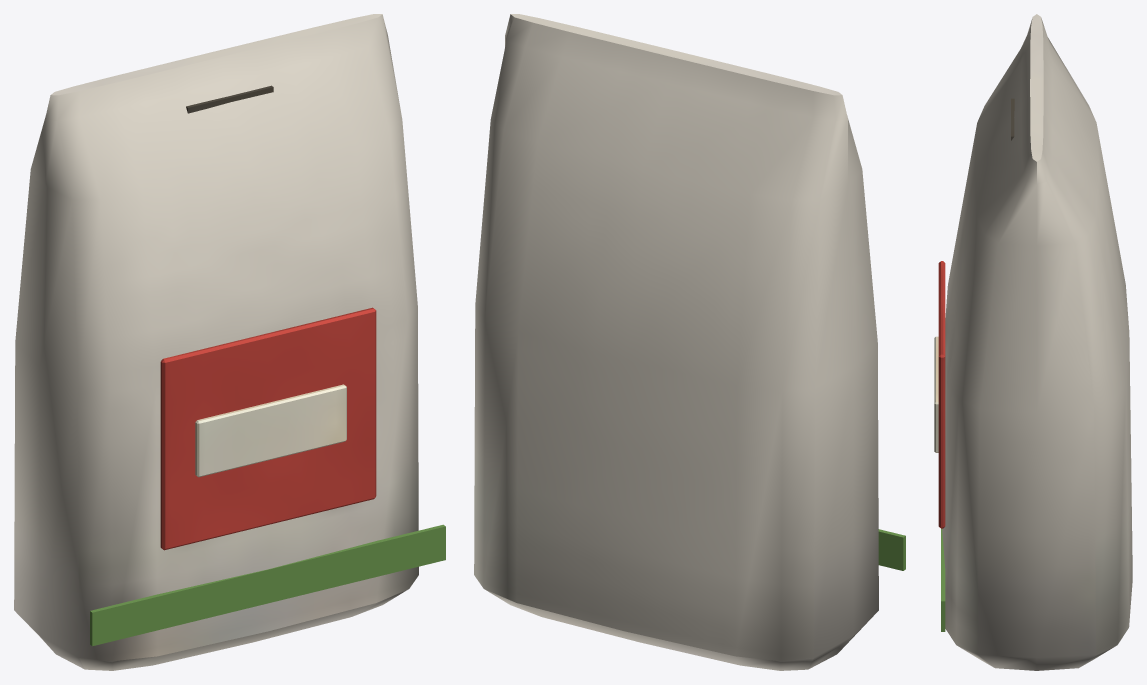
File: rice_bag.glb
3 views of the same model, side by side, from view 1: azimuth 30°, elevation 25°; view 2: azimuth 150°, elevation 25°; view 3: azimuth 270°, elevation 25° (orthographic). The views are drawn at different scales.
Visible parts, largest first — view 1: rice_bag; view 2: rice_bag; view 3: rice_bag.
Part boxes in pixels (box(x1,y1,x2,y2)): rice_bag: box(14, 14, 445, 670); rice_bag: box(474, 14, 905, 670); rice_bag: box(934, 14, 1132, 670).
Size of the model in its own units: 0.33 by 0.5 by 0.176.
5 materials, 4 textured.
